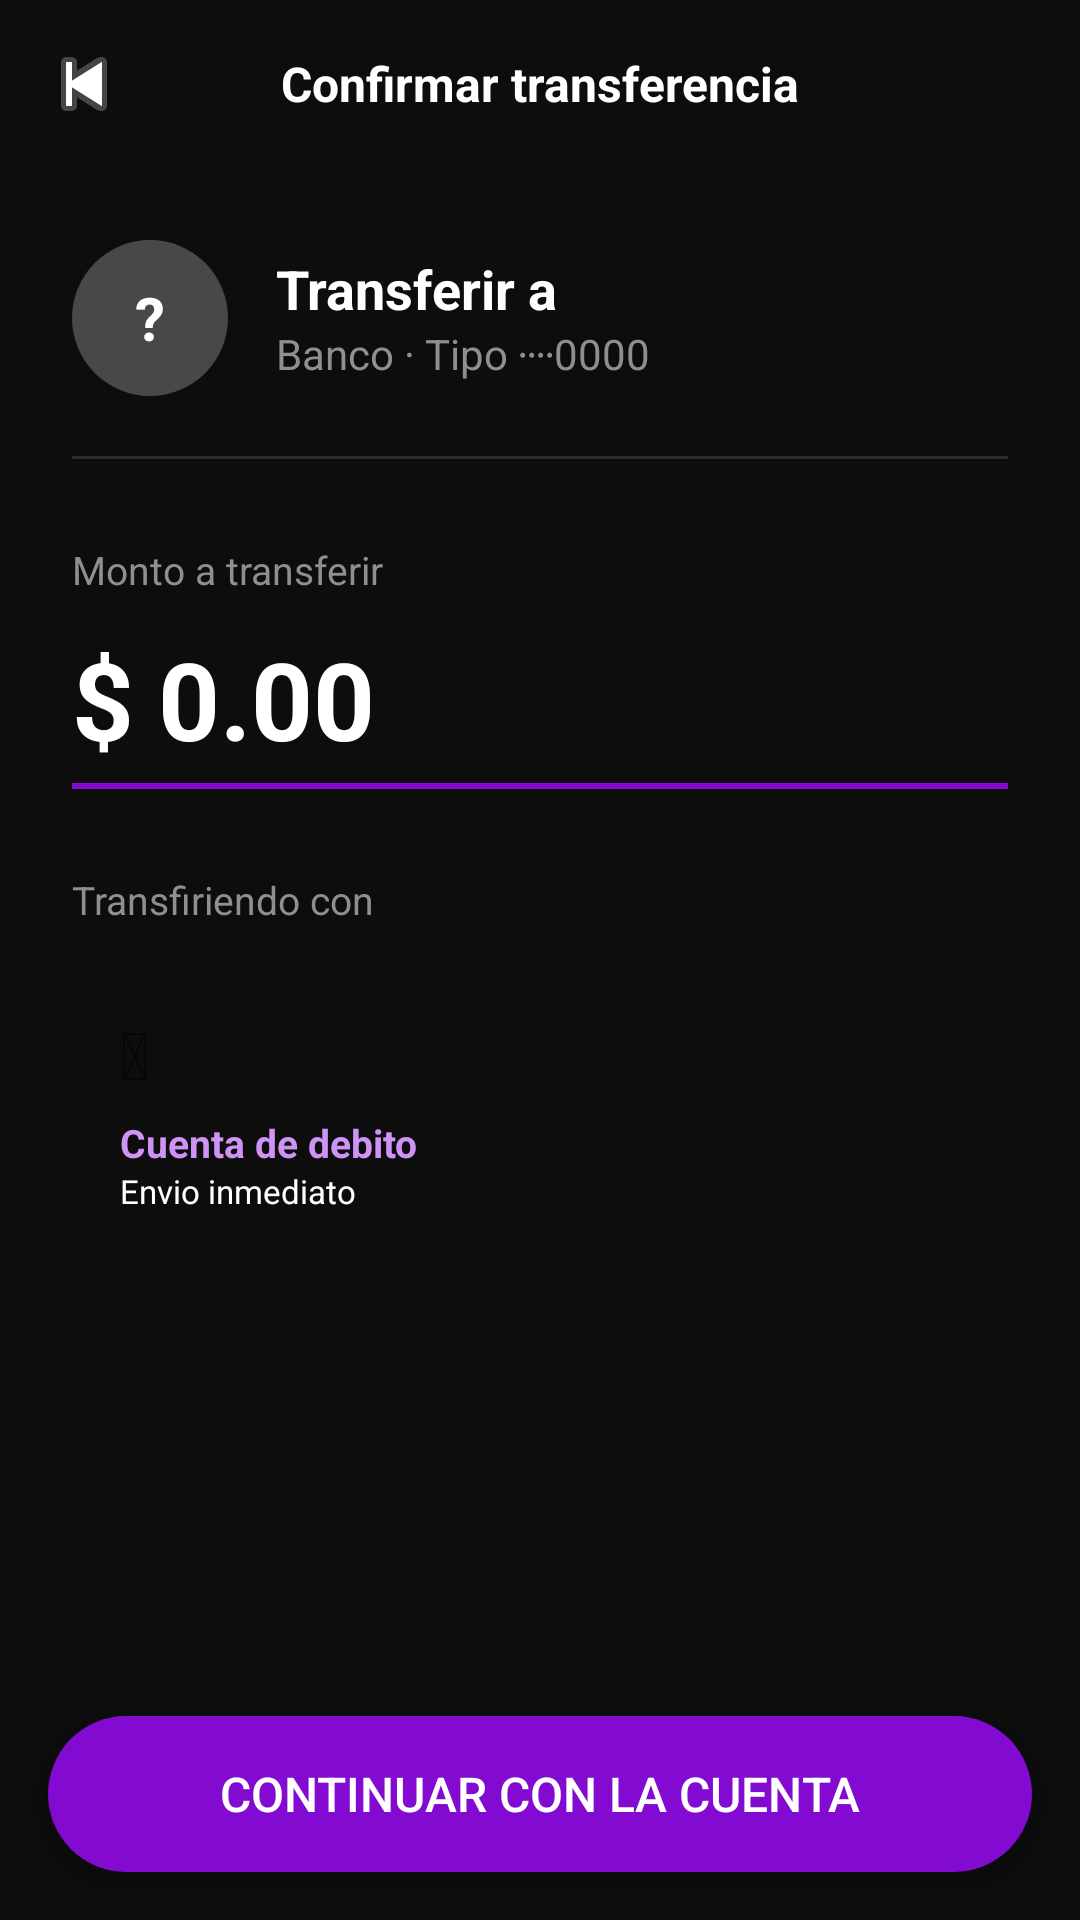

Icon click points for this 1080*1920 phone screenshot, format [x,y]:
Regresar: [84,84]
